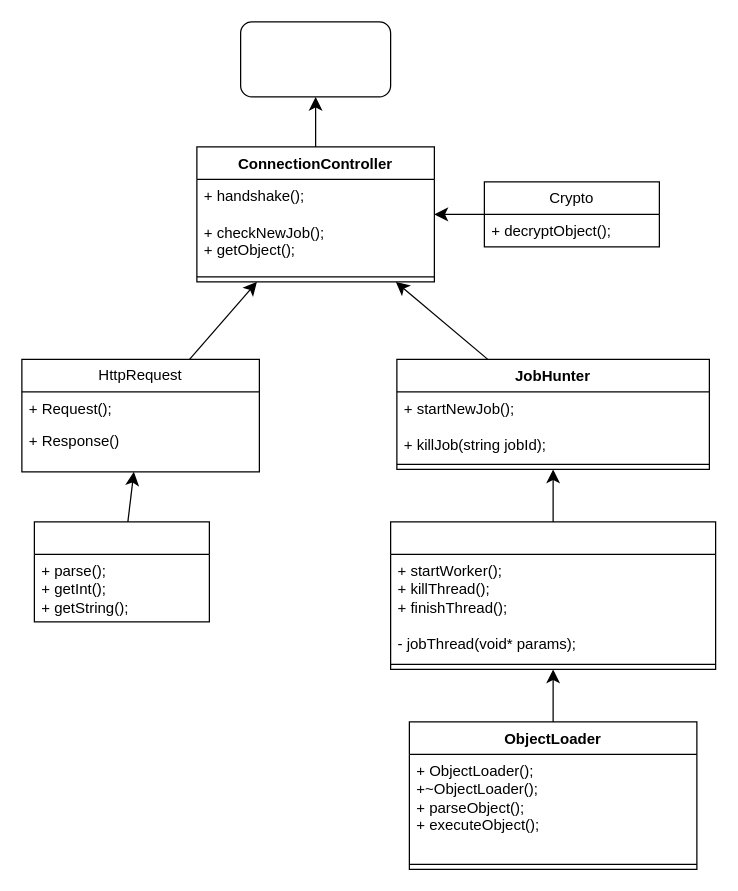
This 738x891 diagram has some shape labels left out. Here are the shapes that lost their labels. From the top down, the box of each, then its label:
(239, 21, 391, 97): Main looper
(33, 521, 209, 622): JSONParser
(389, 521, 716, 669): JobWorker
